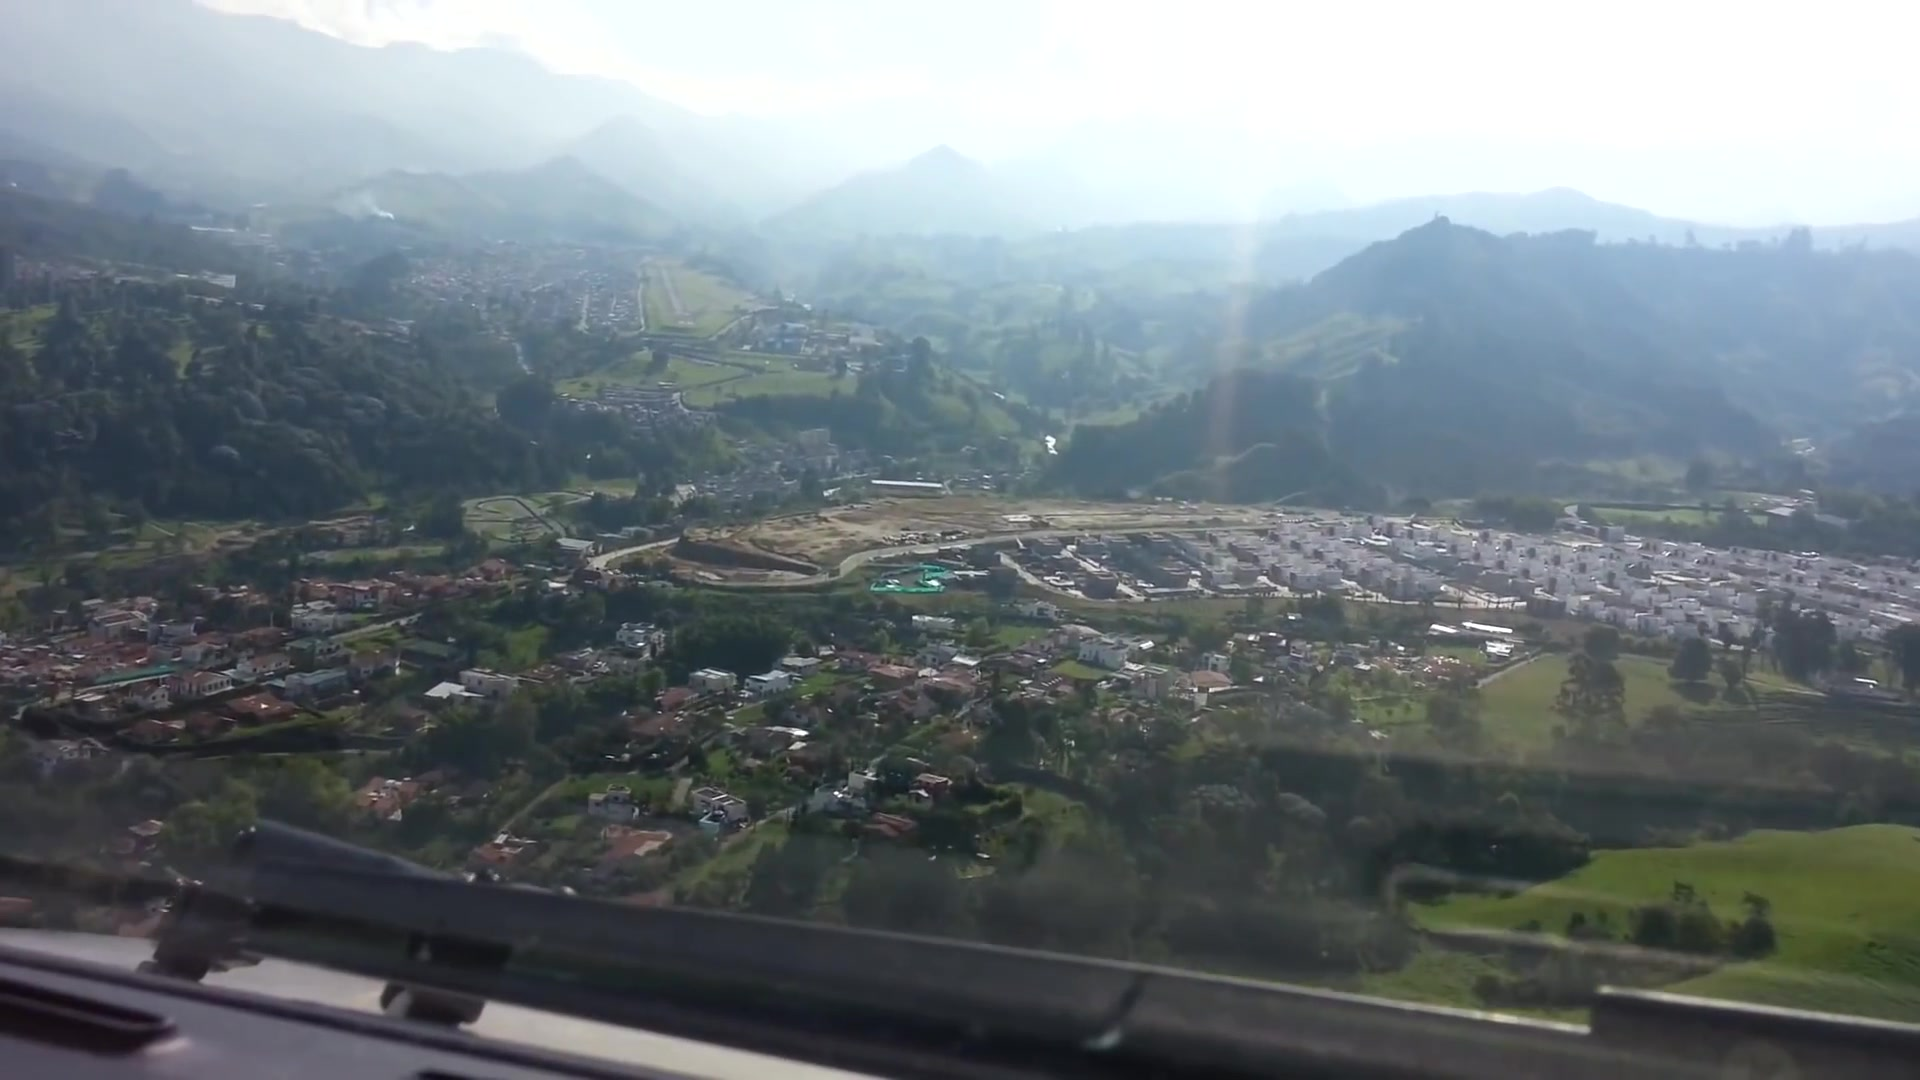runway: (654, 261, 698, 327)
